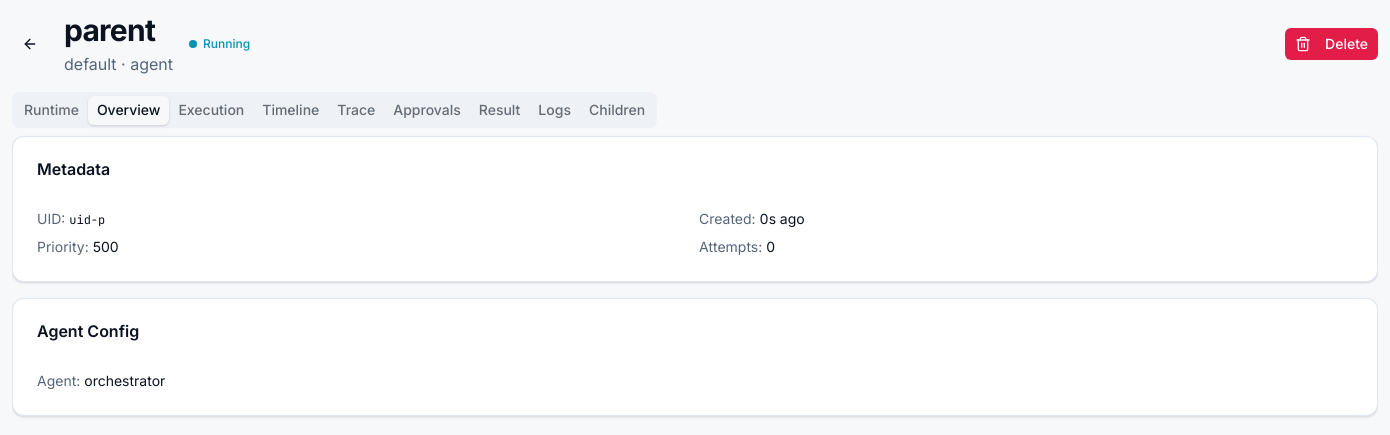
Test: TaskDetail › renders the execution graph (not a table) in the Children tab
The width and height of the screenshot is (1390, 435).
expect the heading "parent" is shown: met, box [64, 12, 155, 48]
Click the tab "Children". click: click(617, 110)
box: [580, 96, 654, 124]
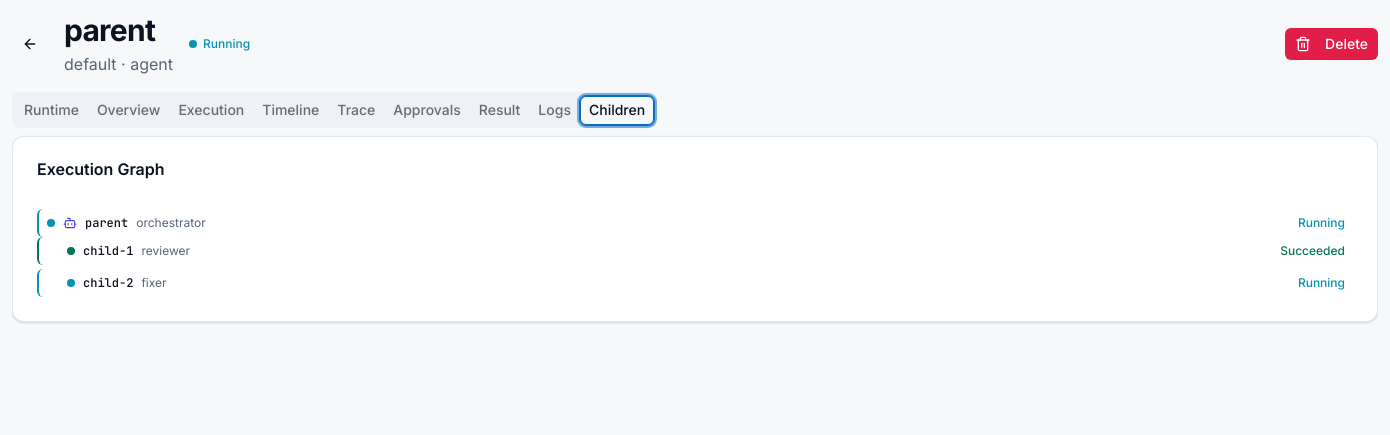
expect the list named "execution graph" is shown: met, box [37, 209, 1353, 297]
expect the text "child-1" is shown: met, box [83, 243, 133, 259]
expect the text "child-2" is shown: met, box [83, 275, 133, 291]
